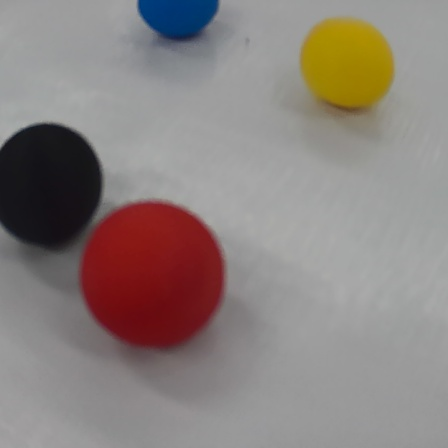black: (2, 121, 103, 249)
blue: (138, 2, 221, 39)
red: (77, 200, 226, 351)
yellow: (297, 18, 397, 111)
